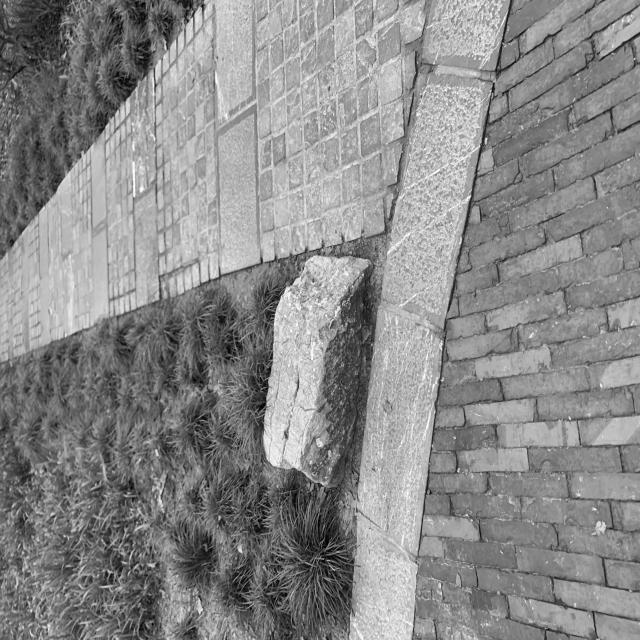Stone: (264, 256, 371, 487)
